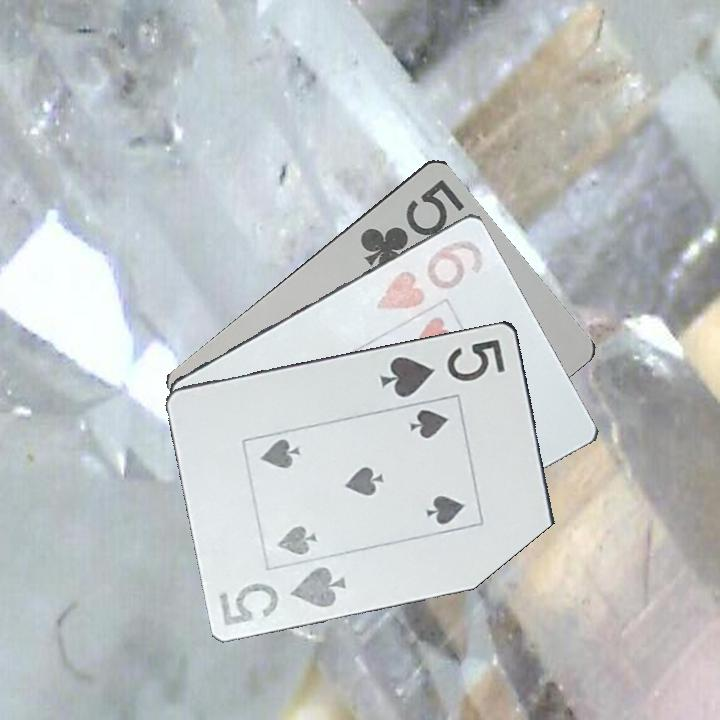5c: (356, 175, 468, 275)
5s: (216, 562, 349, 629), (377, 335, 509, 400)
6h: (368, 231, 487, 313)
